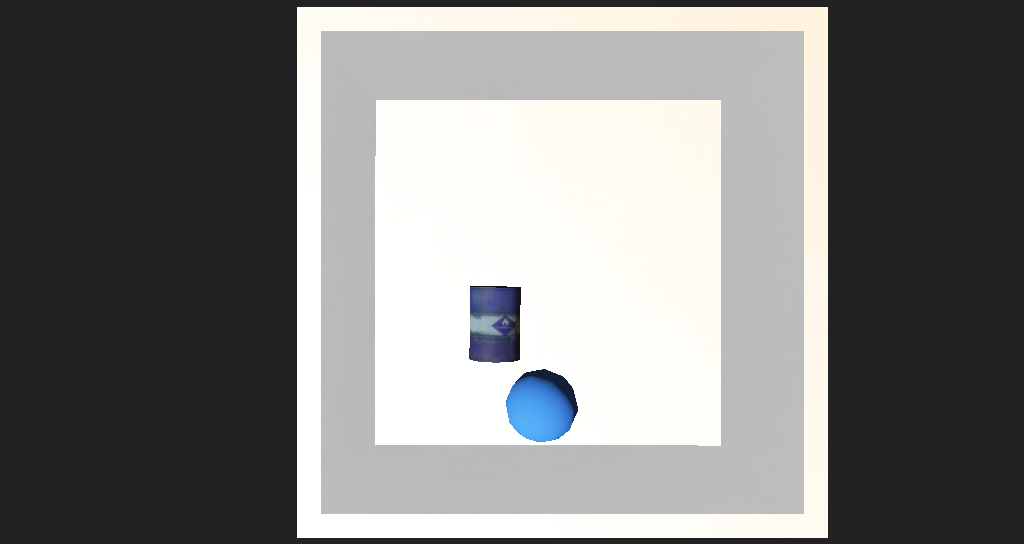cone: (435, 277, 482, 324)
cylinder: (0, 2, 485, 542)
sphere: (465, 324, 532, 372)
